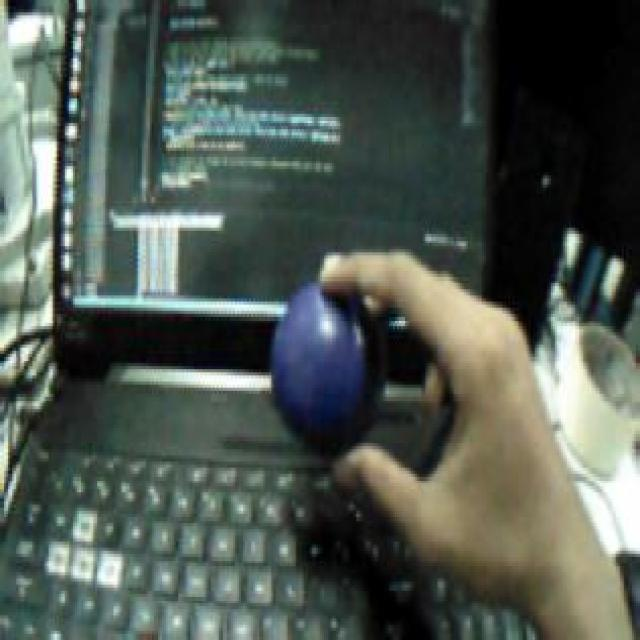BallPurple: (270, 279, 385, 446)
